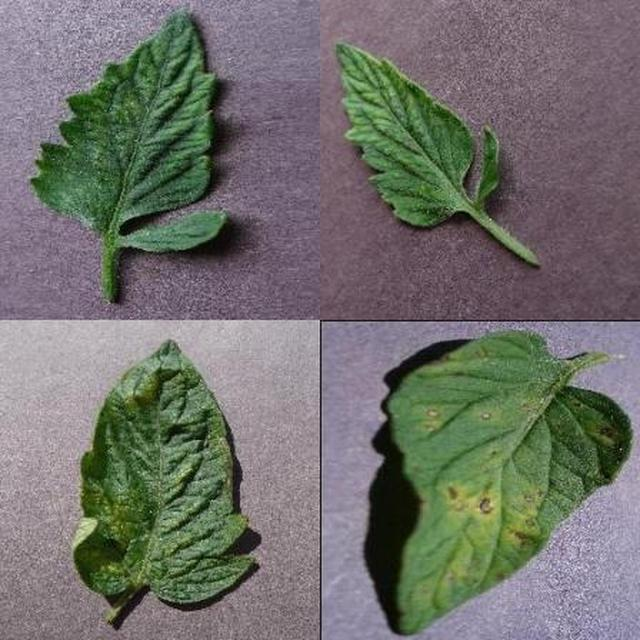Mosaic Virus Leaf: (186, 188, 640, 640)
